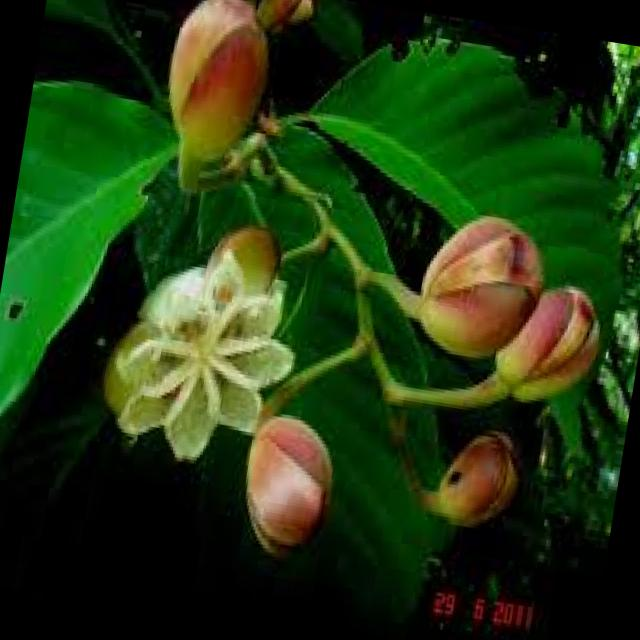Simpoh-Lak: (58, 0, 640, 591)
